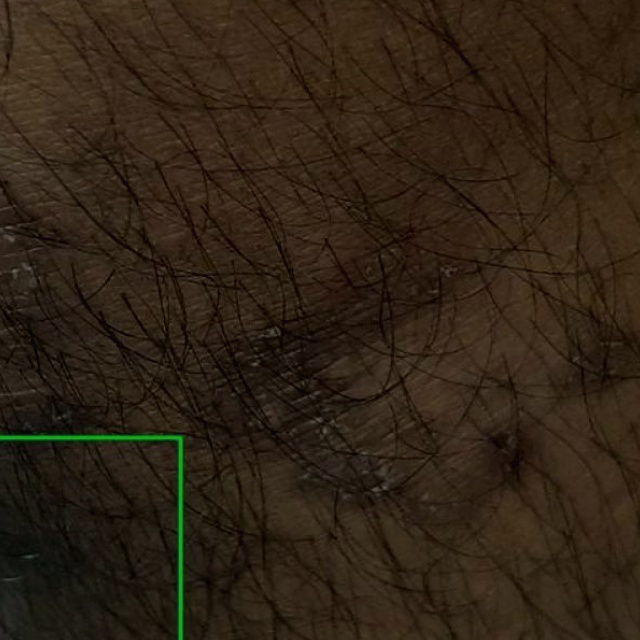Tinea Corporis: (0, 437, 180, 639)
